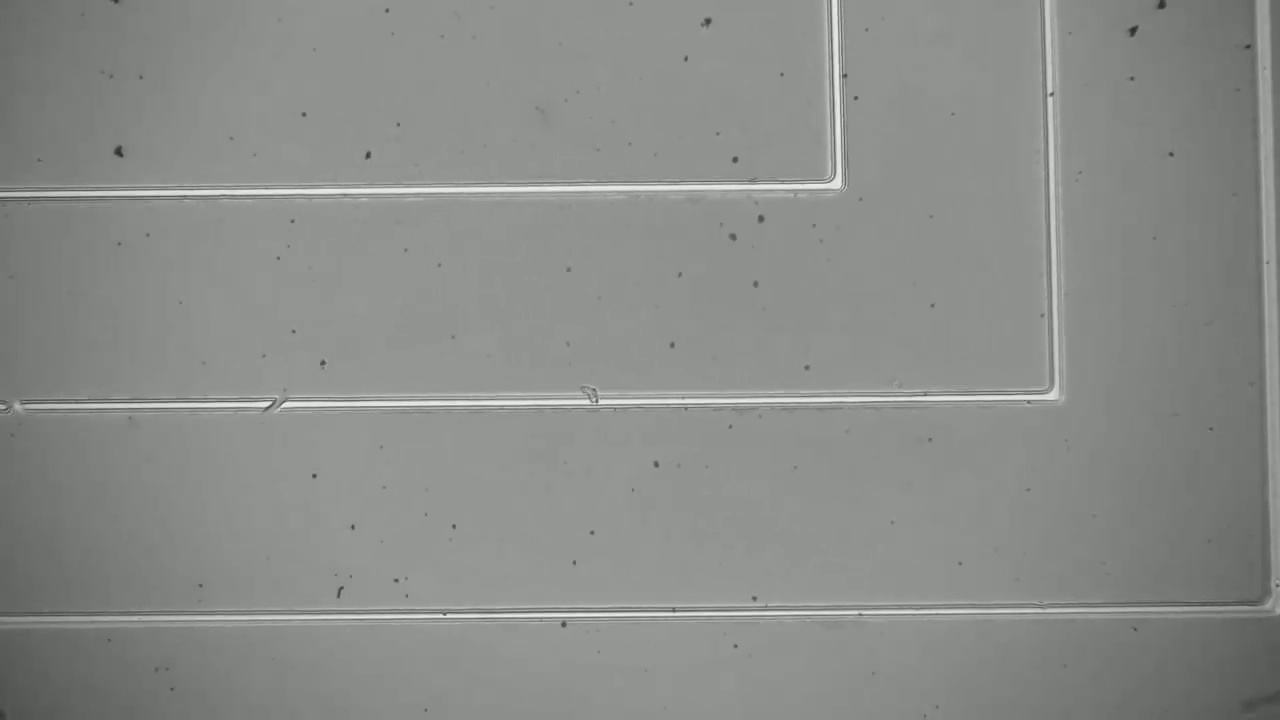open: (249, 385, 299, 422), (0, 389, 40, 424)
stains_enbedded: (571, 375, 608, 417)
